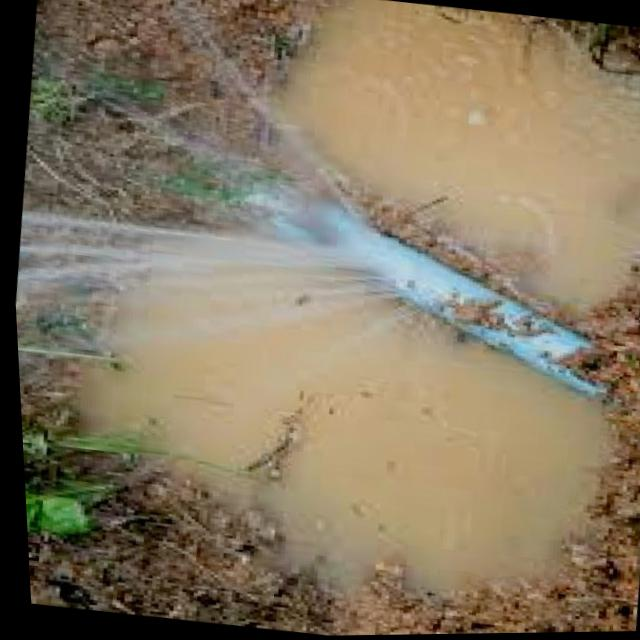leak: (156, 234, 397, 303)
